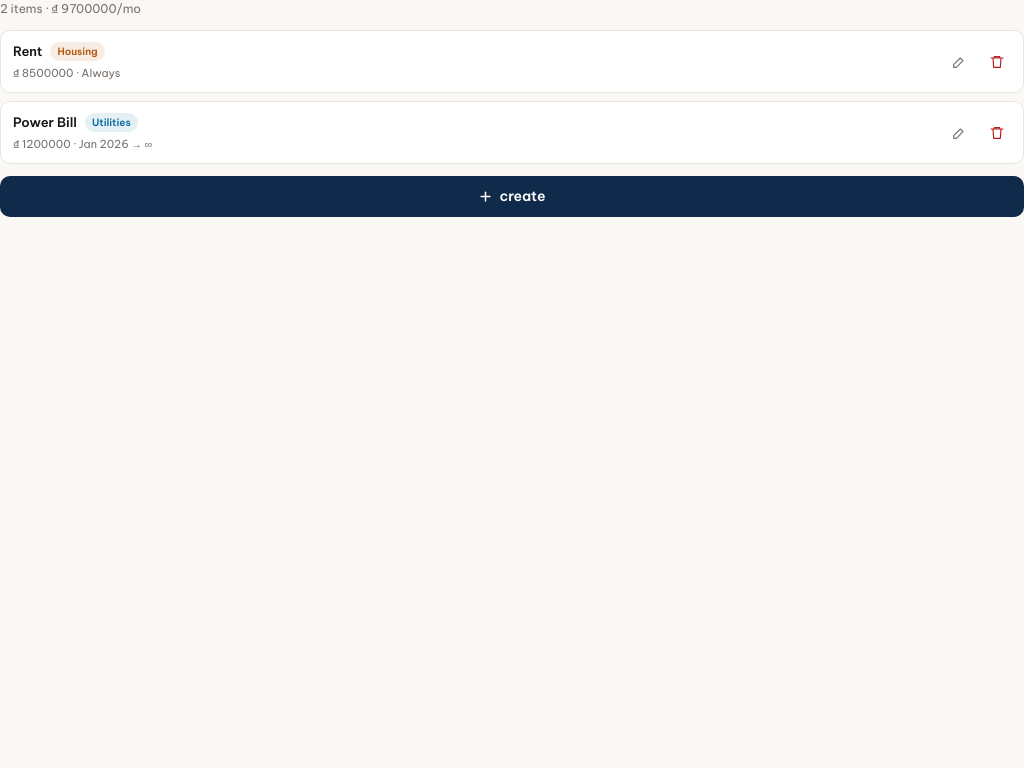
Test: FixedExpenseManager — delete confirmation dialog contract (#688) › modal › closes on Escape without deleting anything
Click the button with test id "fe-delete" in the row of "Always". click: [997, 62]
box: [983,48,1011,76]
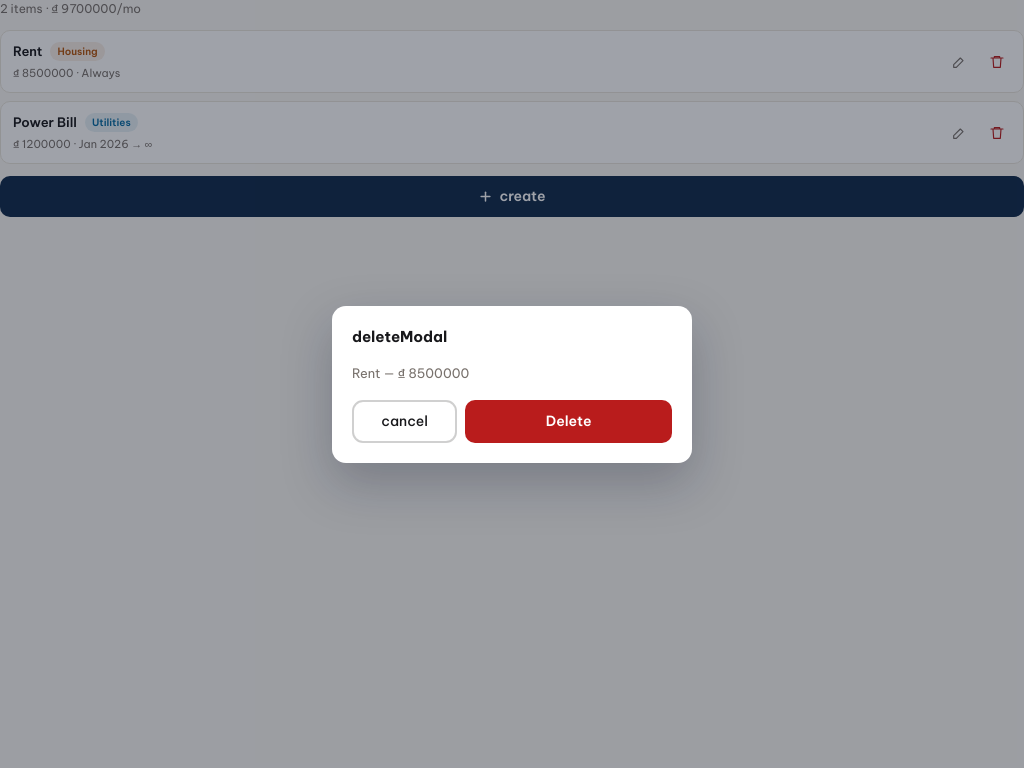
Press Escape
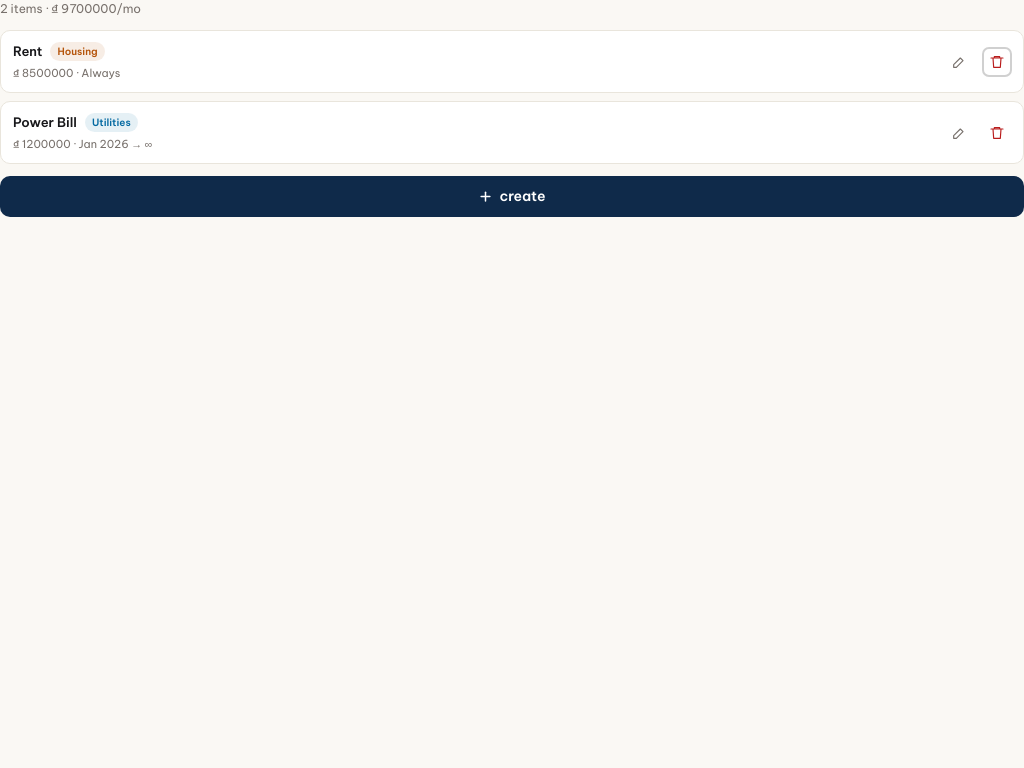
Expected: the element with test id "fe-delete-overlay" is gone
